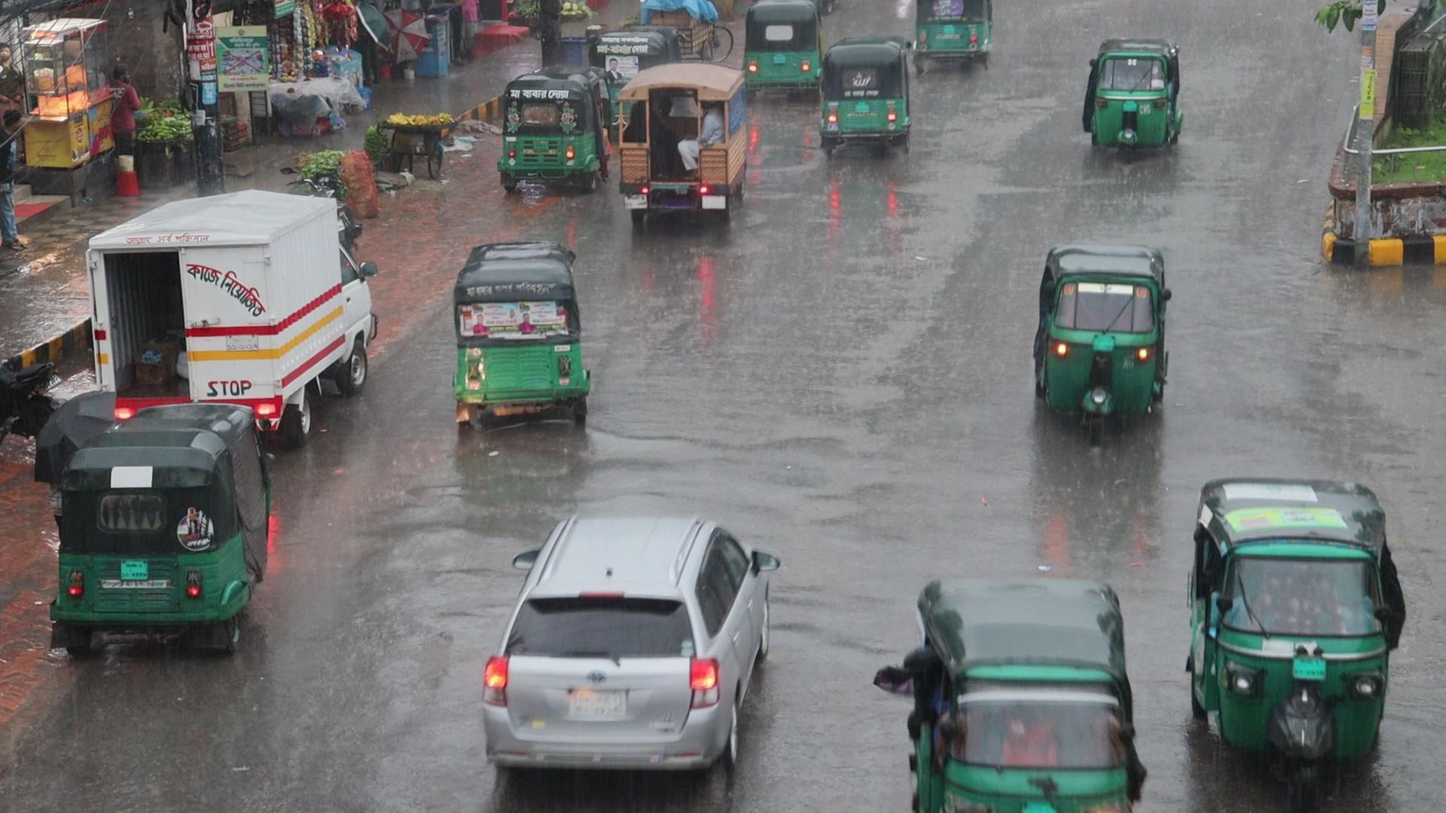Car: (476, 503, 771, 810)
Truck: (606, 61, 757, 232)
